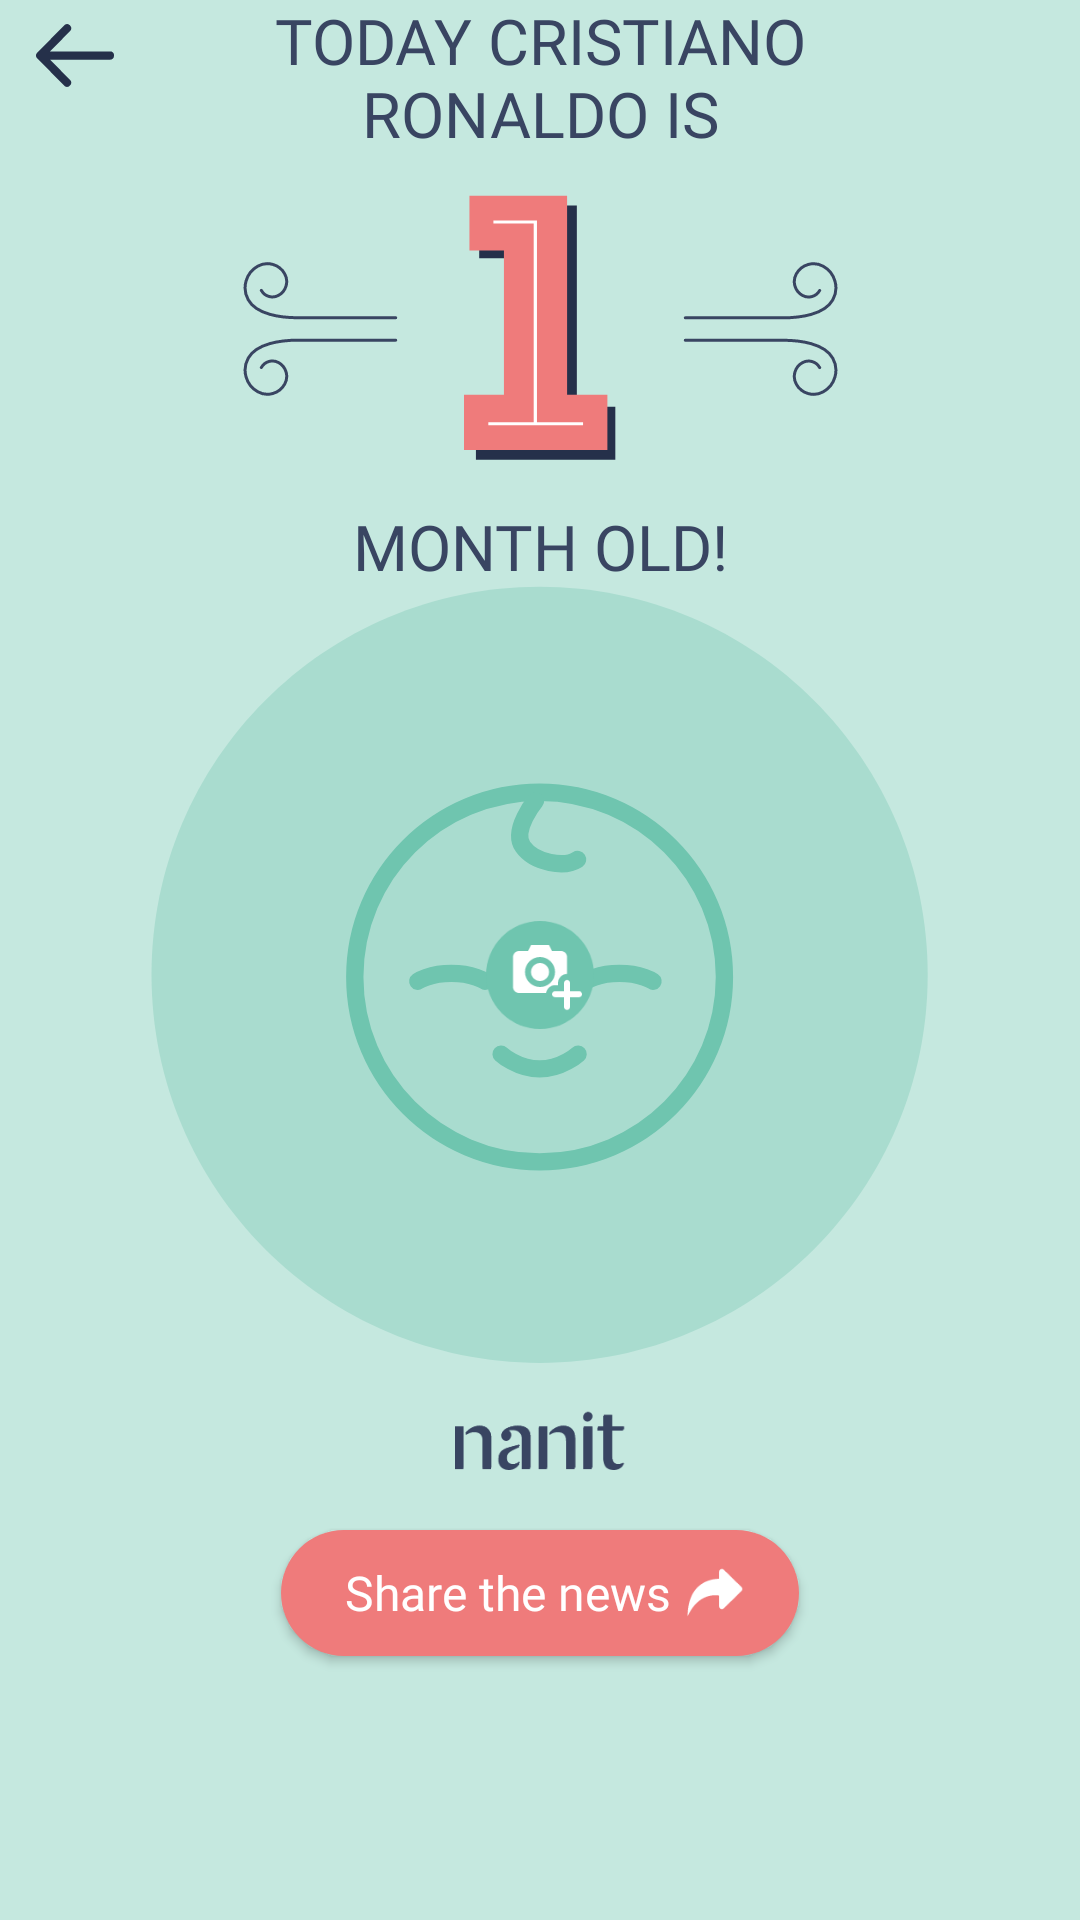

Named icons in this screenshot (1080*1920) and their centers, [x,y]:
arrow back: [75,55]
camera: [540,975]
